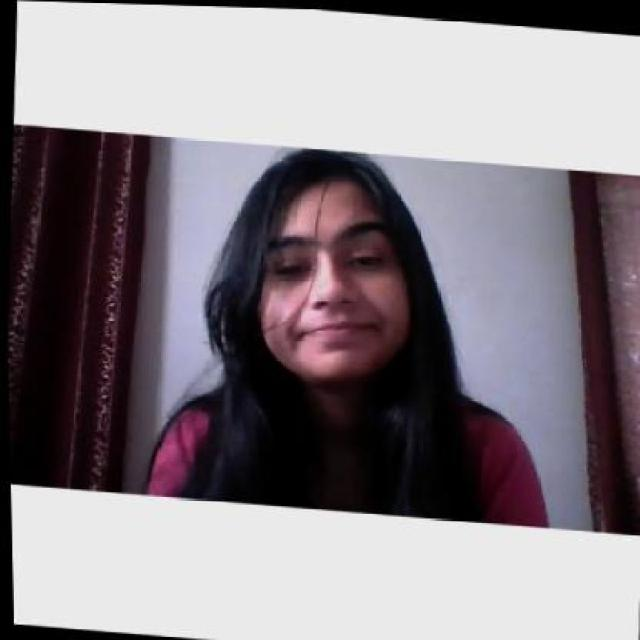attentif: (250, 144, 418, 384)
